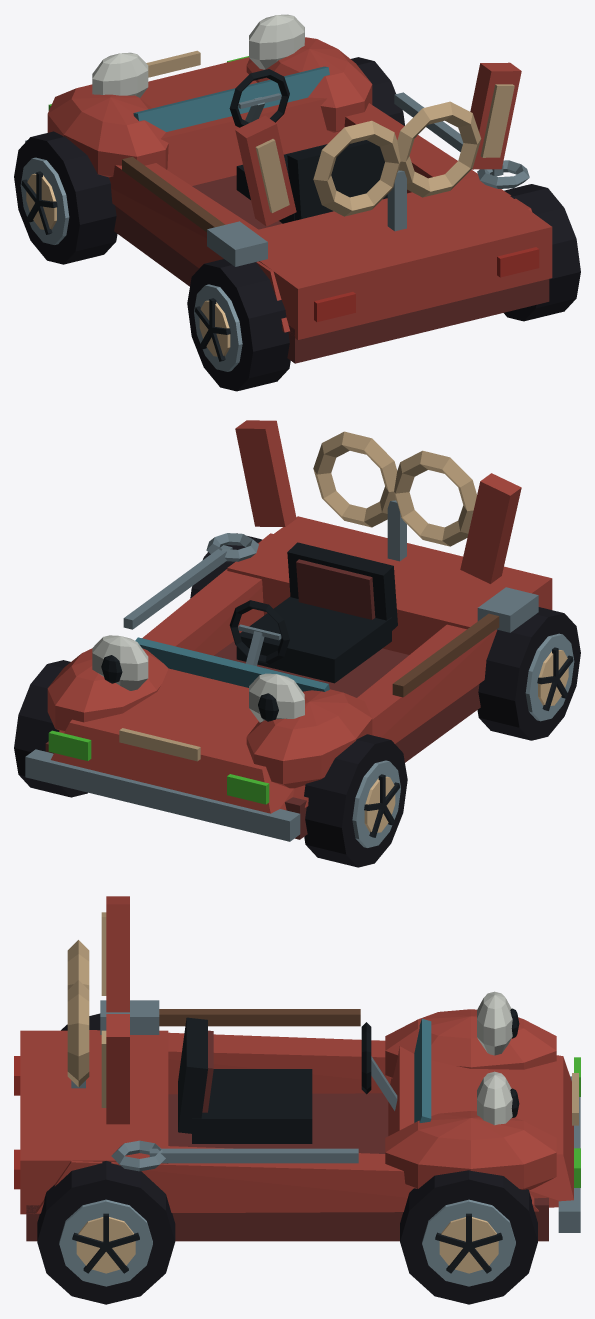
Rendered from kart.glb.
3 renders of one model, top to bottom at view 1: azimuth 30°, elevation 25°; view 2: azimuth 150°, elevation 25°; view 3: azimuth 270°, elevation 25°, orthographic. The views are drawn at different scales.
Visible parts, largest first — view 1: identity-toy-car-toy-rounded-body-and-wind-up-key, wheel-rear-left, wheel-front-left, identity-toy-car-motif-ears, identity-toy-car-driver-cockpit, identity-toy-car-motif-tools, identity-toy-car-motif-eyes, wheel-rear-right, wheel-front-right; view 2: identity-toy-car-toy-rounded-body-and-wind-up-key, identity-toy-car-driver-cockpit, wheel-front-left, wheel-rear-left, identity-toy-car-motif-ears, identity-toy-car-motif-tools, identity-toy-car-motif-eyes, wheel-front-right; view 3: identity-toy-car-toy-rounded-body-and-wind-up-key, wheel-rear-right, wheel-front-right, identity-toy-car-driver-cockpit, identity-toy-car-motif-tools, identity-toy-car-motif-ears, identity-toy-car-motif-eyes.
Part boxes in pixels (x1,y1,x2,y2): identity-toy-car-toy-rounded-body-and-wind-up-key: [25, 37, 552, 363]; wheel-rear-left: [187, 259, 290, 391]; wheel-front-left: [14, 131, 117, 264]; identity-toy-car-motif-ears: [235, 62, 521, 226]; identity-toy-car-driver-cockpit: [229, 69, 387, 223]; identity-toy-car-motif-tools: [122, 92, 529, 266]; identity-toy-car-motif-eyes: [92, 14, 304, 97]; wheel-rear-right: [504, 184, 580, 321]; wheel-front-right: [351, 57, 404, 125]; identity-toy-car-toy-rounded-body-and-wind-up-key: [25, 431, 552, 841]; identity-toy-car-driver-cockpit: [229, 542, 397, 683]; wheel-front-left: [304, 734, 407, 867]; wheel-rear-left: [477, 607, 580, 740]; identity-toy-car-motif-ears: [235, 420, 521, 583]; identity-toy-car-motif-tools: [123, 533, 538, 697]; identity-toy-car-motif-eyes: [92, 635, 304, 722]; wheel-front-right: [14, 660, 87, 797]; identity-toy-car-toy-rounded-body-and-wind-up-key: [14, 940, 580, 1241]; wheel-rear-right: [37, 1161, 175, 1304]; wheel-front-right: [400, 1170, 537, 1304]; identity-toy-car-driver-cockpit: [178, 1017, 397, 1143]; identity-toy-car-motif-tools: [100, 1000, 360, 1171]; identity-toy-car-motif-ears: [101, 896, 129, 1124]; identity-toy-car-motif-eyes: [477, 991, 519, 1125].
Size of the model in its own units: 2.13 by 1.46 by 2.88.
